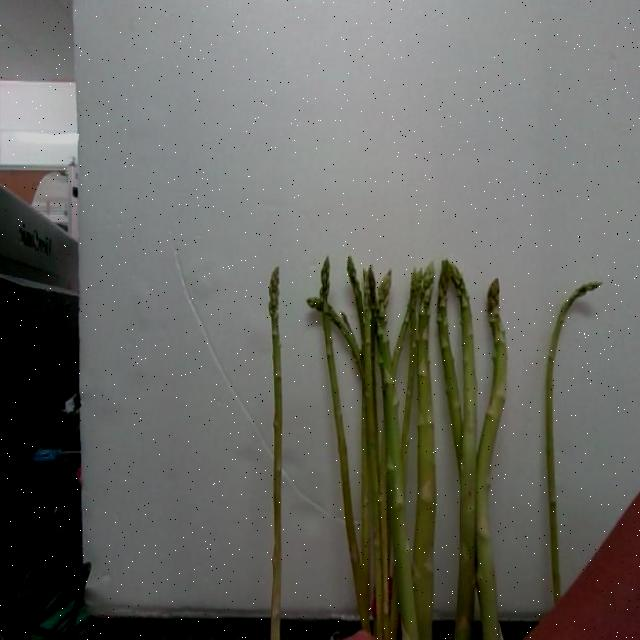aspargus: (546, 283, 601, 612), (476, 280, 509, 640), (267, 269, 285, 640)
